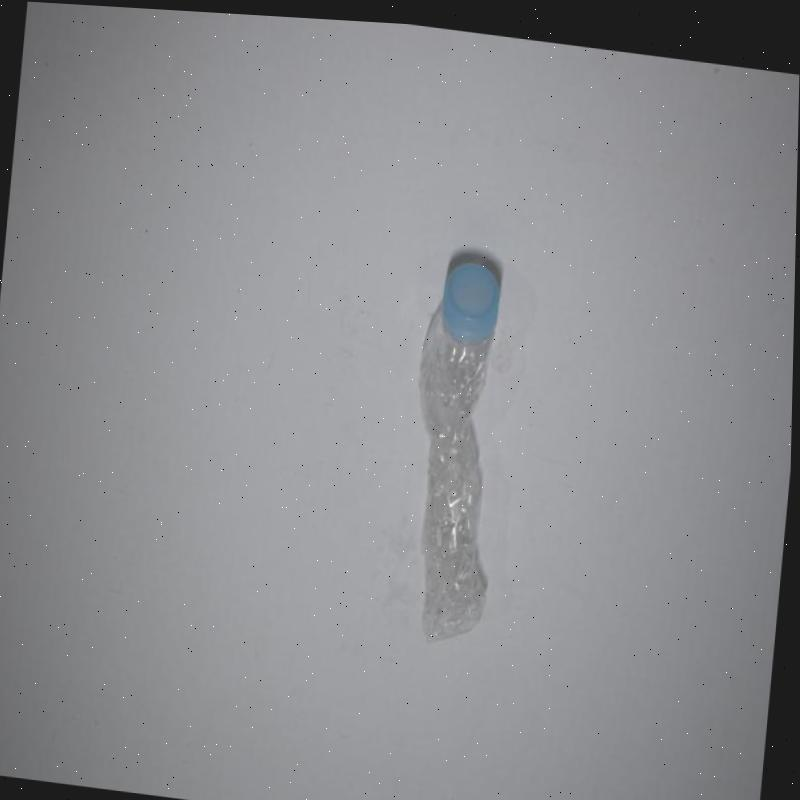botella: (394, 243, 522, 640)
